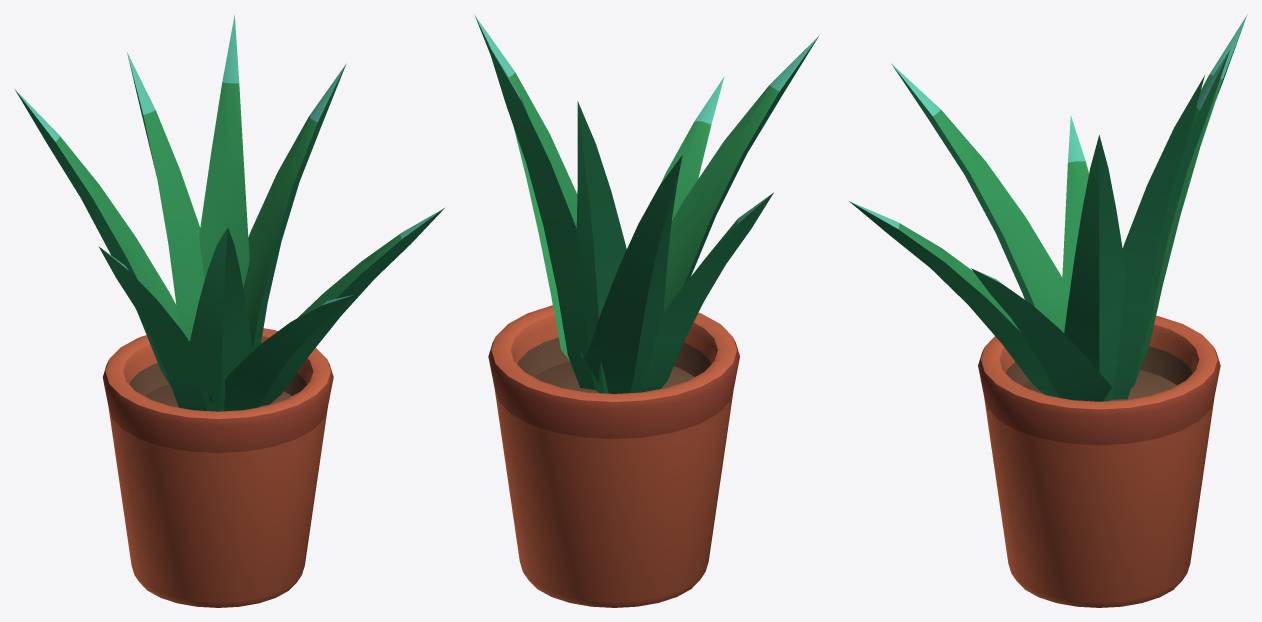
The model's file is planta_mini_babosa.glb.
3 views of the same model, side by side, from view 1: azimuth 30°, elevation 25°; view 2: azimuth 150°, elevation 25°; view 3: azimuth 270°, elevation 25° (orthographic). The views are drawn at different scales.
Visible parts, largest first — view 1: planta_mini_babosa; view 2: planta_mini_babosa; view 3: planta_mini_babosa.
Boxes of the visible parts, box(x1,y1,x2,y2) form: planta_mini_babosa: box(15, 15, 445, 607); planta_mini_babosa: box(474, 15, 818, 607); planta_mini_babosa: box(849, 14, 1247, 607).
Bounding box in the file's own units: 0.1198 × 0.1934 × 0.1316.
1 material, 1 textured.
